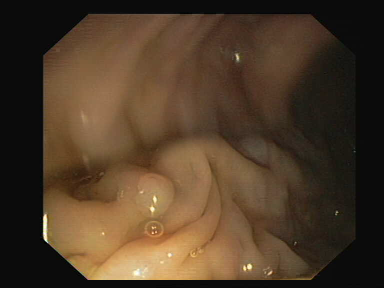polyp: (105, 158, 204, 234)
